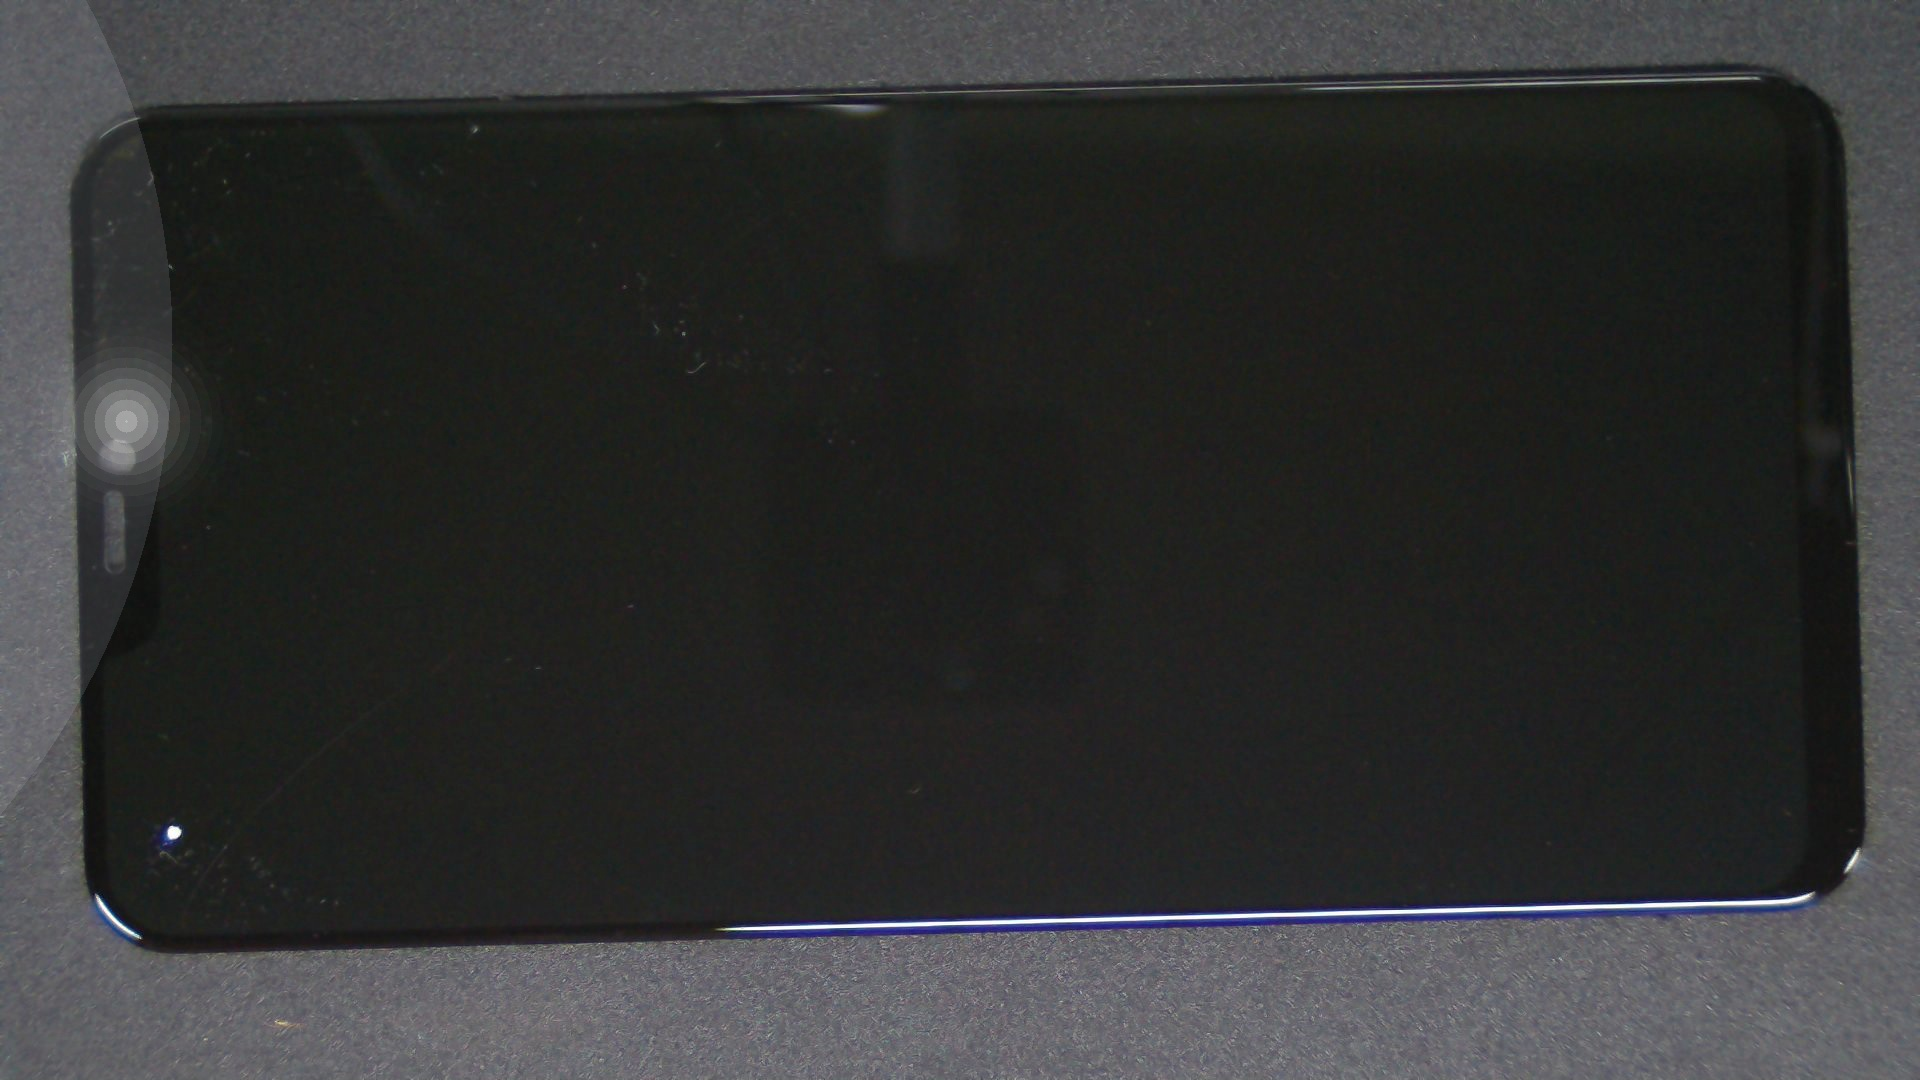oil: (90, 411, 266, 1080)
